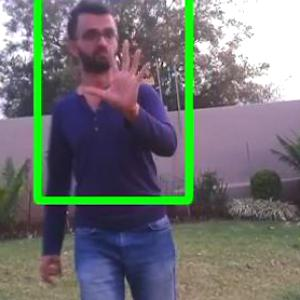follow_hand: (81, 35, 155, 118)
